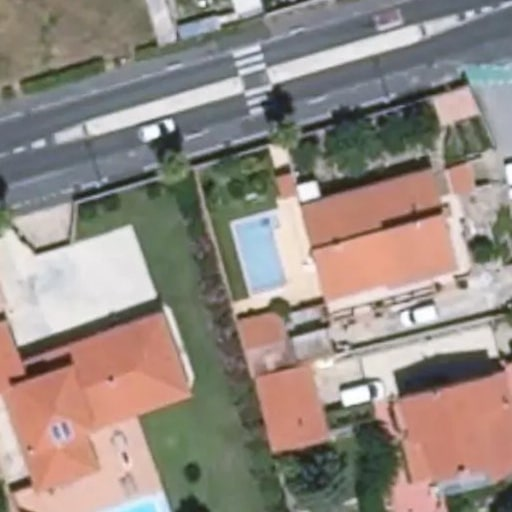pool: (229, 214, 293, 293)
